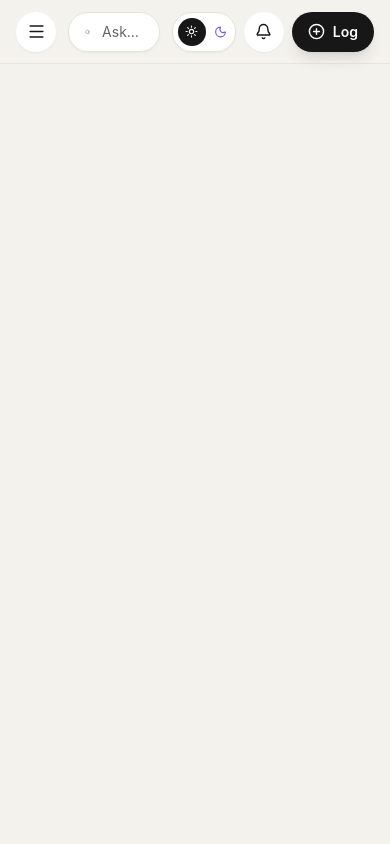
Test: application shell › opens the responsive navigation drawer
Click the button named "Open menu" at (36, 32), box [16,12,56,52]
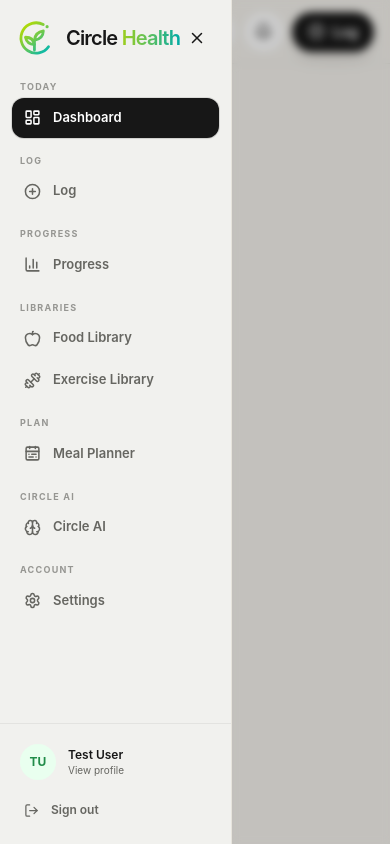
Expected: the button named "Close menu" is shown
